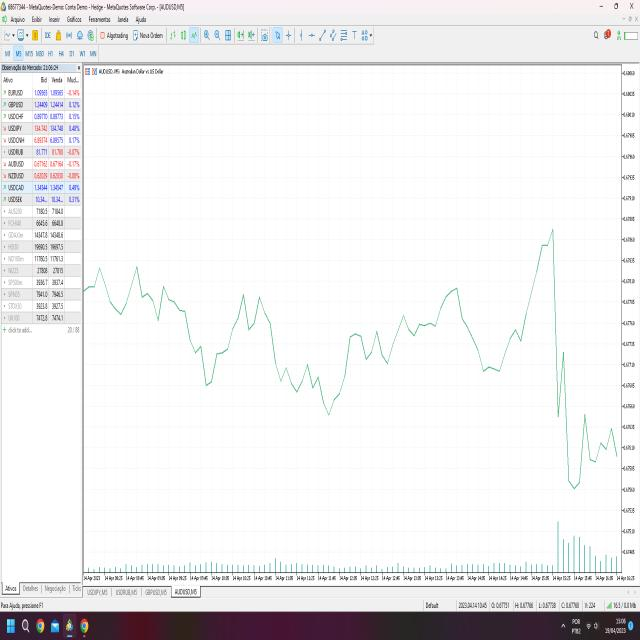bandeira_baixa: (548, 208, 614, 510)
topo_duplo: (224, 261, 281, 386)
